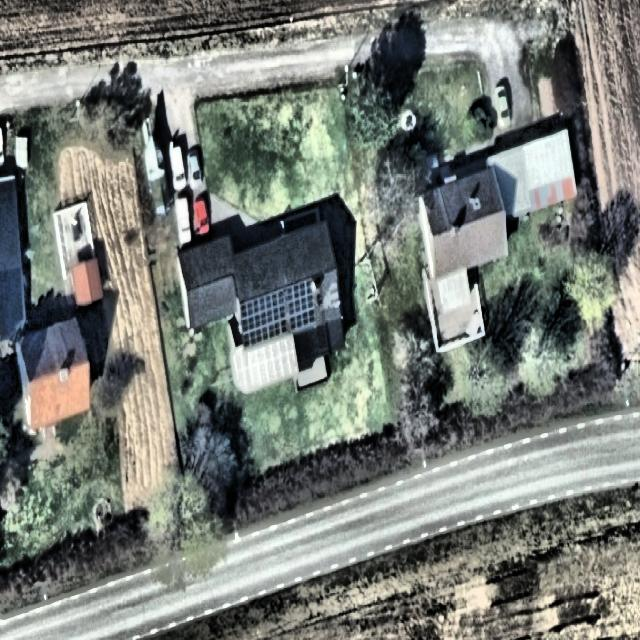roof_pv: (236, 289, 286, 351), (286, 277, 315, 334)
